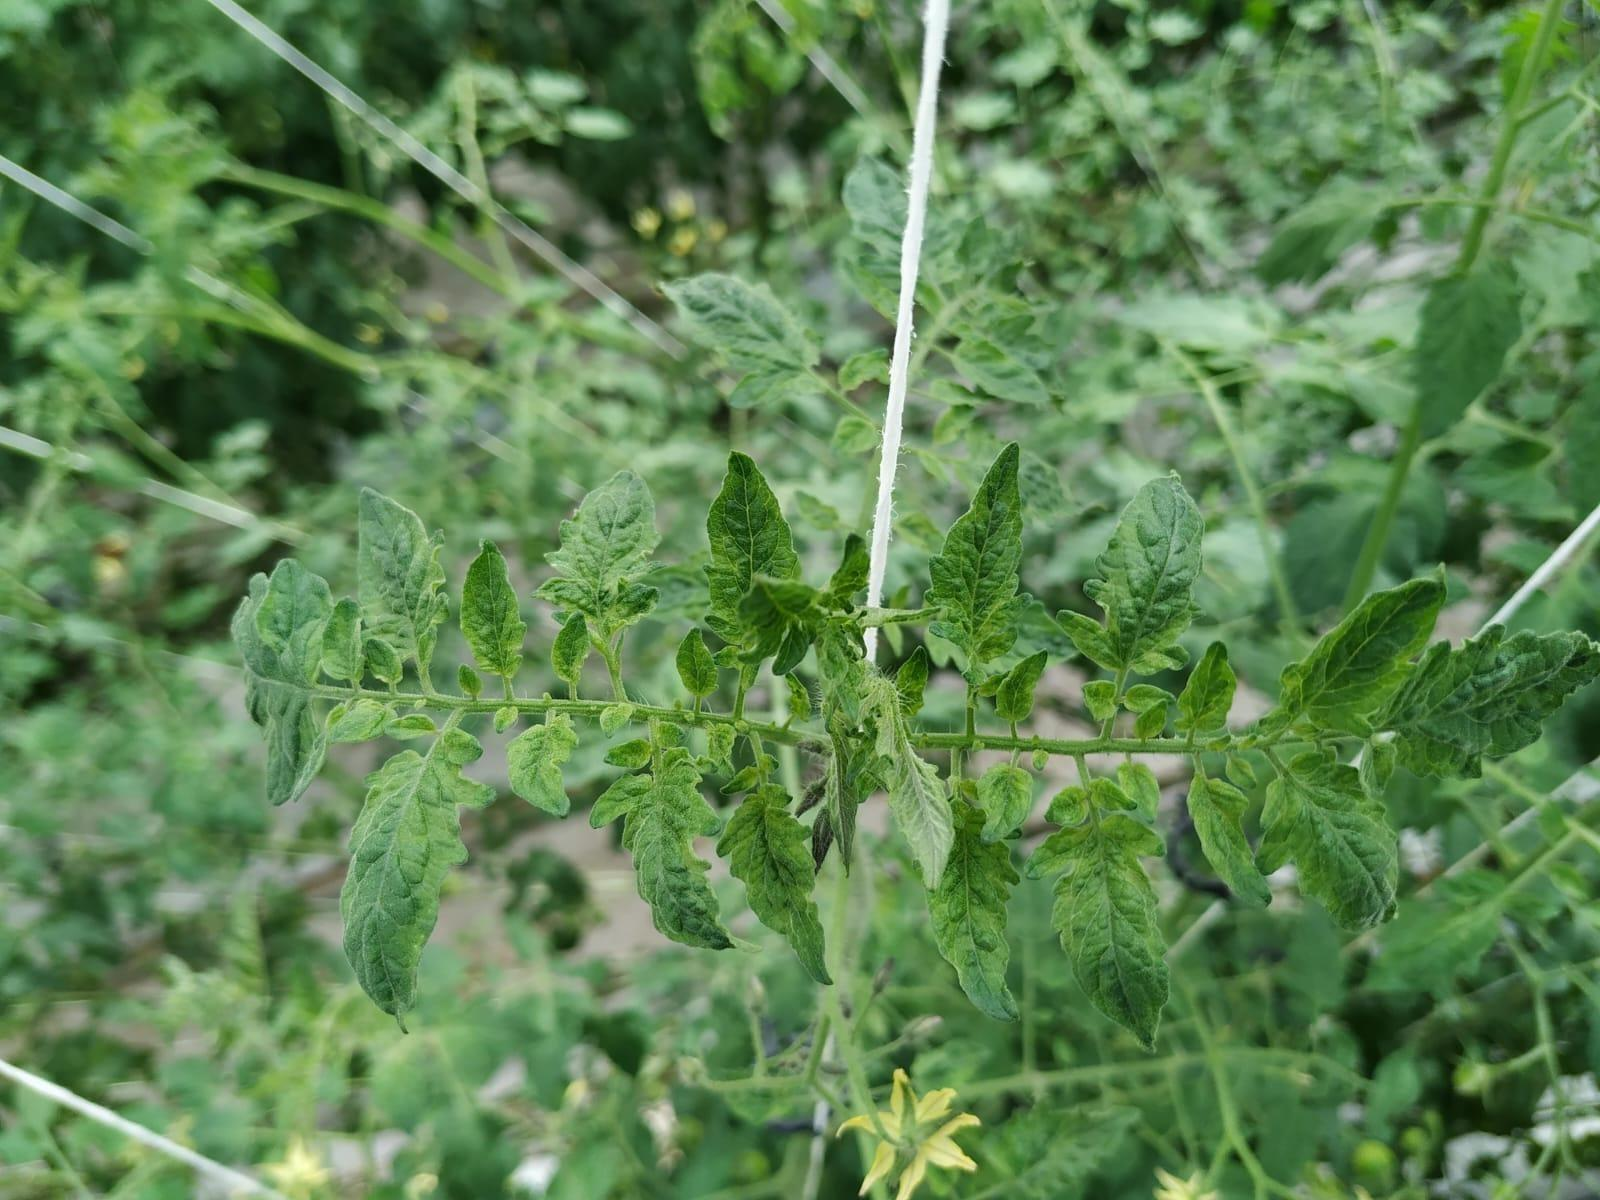Hoja rugoso: (339, 724, 488, 1020), (1378, 628, 1600, 778), (1032, 816, 1169, 1047), (1060, 475, 1203, 676), (535, 469, 658, 701), (590, 747, 729, 948), (1281, 576, 1446, 735), (232, 560, 334, 807), (1256, 750, 1397, 928), (925, 444, 1022, 684), (716, 784, 831, 984), (929, 794, 1019, 1018), (359, 488, 447, 691), (707, 453, 800, 638), (878, 708, 954, 891), (1188, 764, 1272, 906), (460, 543, 525, 697), (506, 712, 578, 816), (1175, 640, 1237, 735), (978, 763, 1032, 843), (997, 650, 1047, 729), (321, 597, 363, 687), (675, 628, 719, 710)
